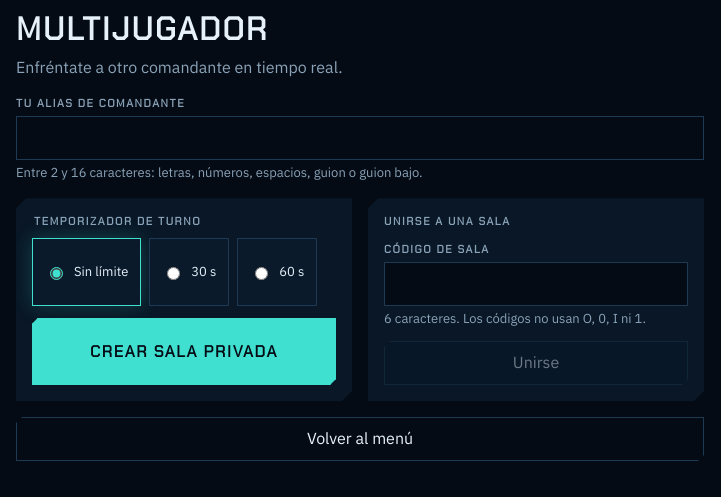
Test: MultiplayerEntry › normalises the code to upper case and rejects ambiguous characters
Later steps or results of the test are not shown.
Type "Bruno" into the field labelled "Tu alias de comandante" at (360, 138), box top-left (16, 116), bottom-right (704, 160)
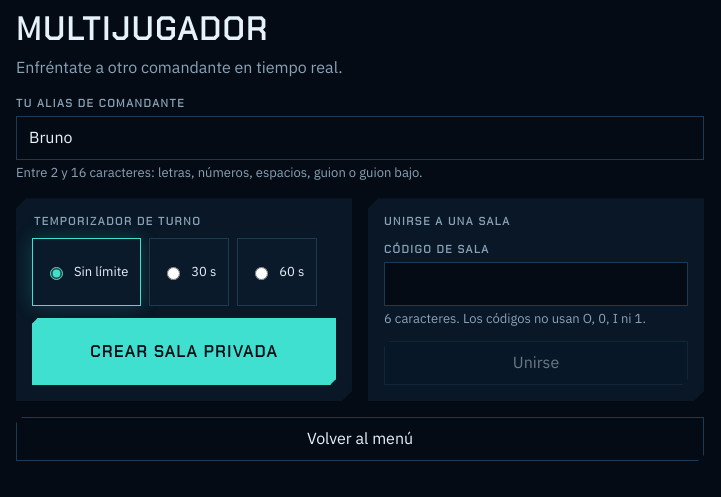
Type "ab0" into the field labelled "Código de sala" at (536, 284), box top-left (384, 262), bottom-right (688, 306)
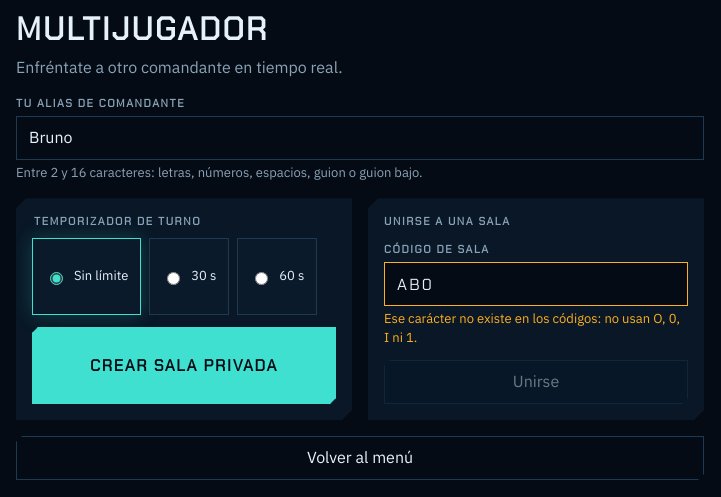
Expected: the button "Unirse" is disabled, top-left (384, 360), bottom-right (688, 404)
Expected: the text "Ese carácter no existe en los códigos: no usan O, 0, I ni 1." is shown, top-left (384, 310), bottom-right (688, 348)
Replace the text in the field labelled "Código de sala" with "abc 234" at (536, 284), box top-left (384, 262), bottom-right (688, 306)
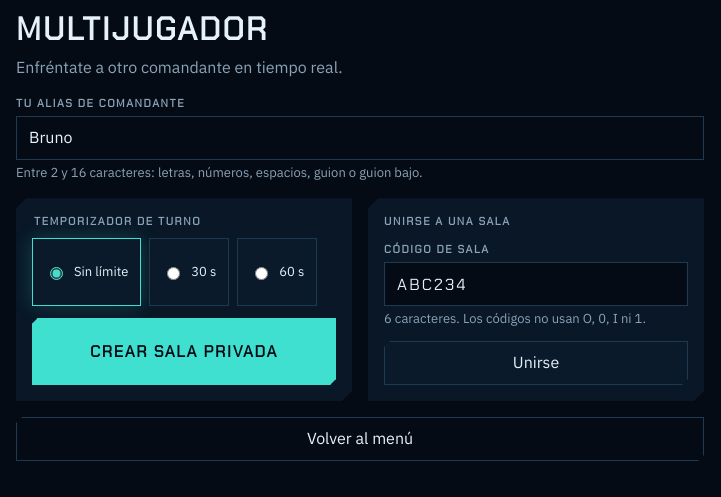
Expected: the field labelled "Código de sala" holds "ABC234", top-left (384, 262), bottom-right (688, 306)
Expected: the button "Unirse" is enabled, top-left (384, 341), bottom-right (688, 385)
